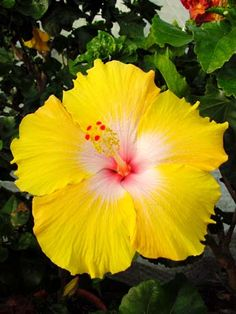Hibiscus: (1, 61, 228, 277)
